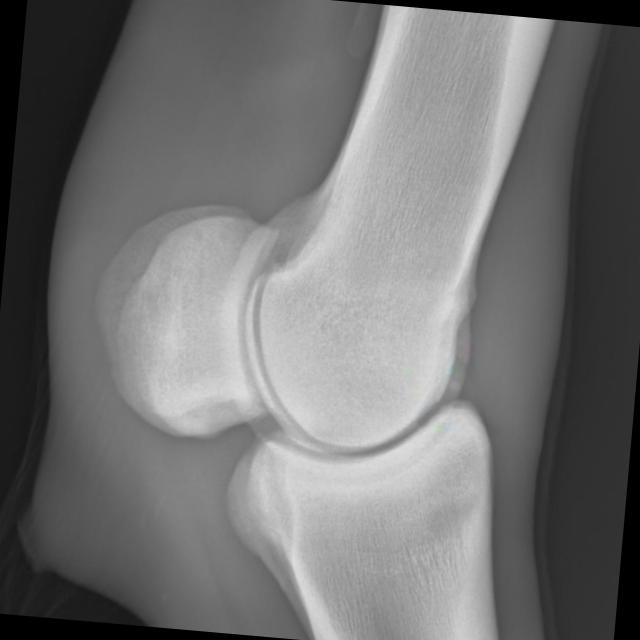bone remodeling: (314, 289, 590, 547)
